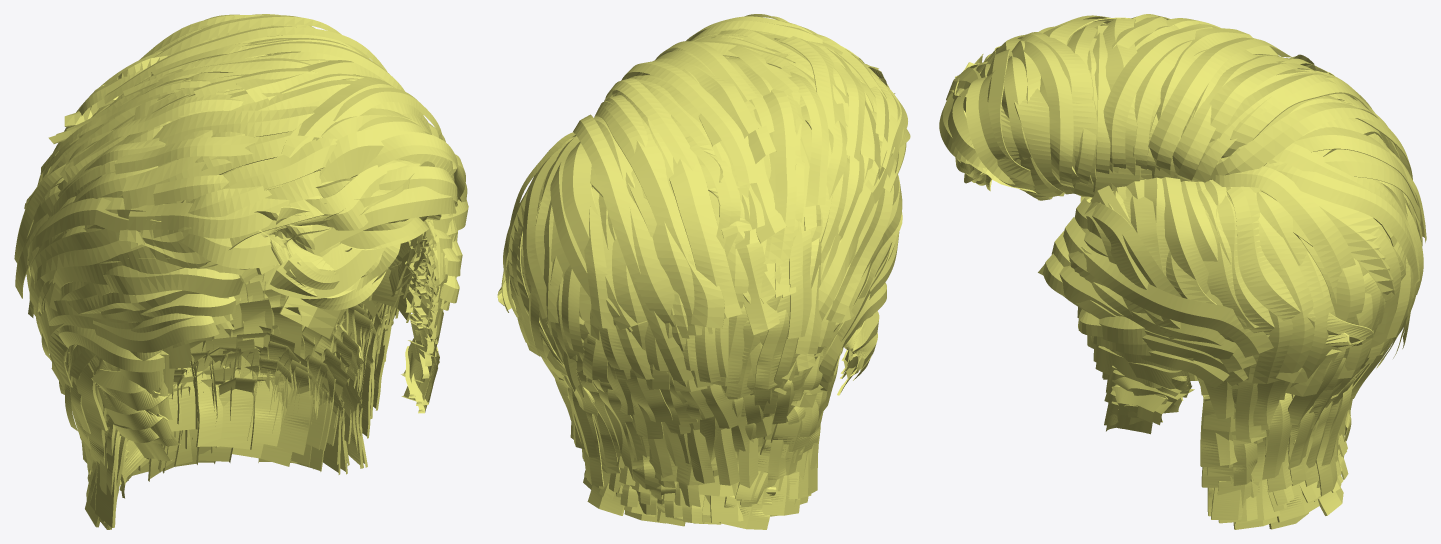
Rendered from man-hair-0-transformed.glb.
3 renders of one model, left to right at view 1: azimuth 30°, elevation 25°; view 2: azimuth 150°, elevation 25°; view 3: azimuth 270°, elevation 25°, orthographic. The views are drawn at different scales.
Parts seen in each view (by area): view 1: man-haircard1; view 2: man-haircard1; view 3: man-haircard1.
Boxes of the visible parts, bbox=[...] form: man-haircard1: bbox=[14, 14, 468, 529]; man-haircard1: bbox=[497, 14, 910, 529]; man-haircard1: bbox=[939, 14, 1426, 529].
Bounding box in the file's own units: 1.29 × 1.55 × 1.51.
